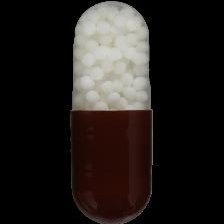0555-0956: (0, 0, 224, 224)
